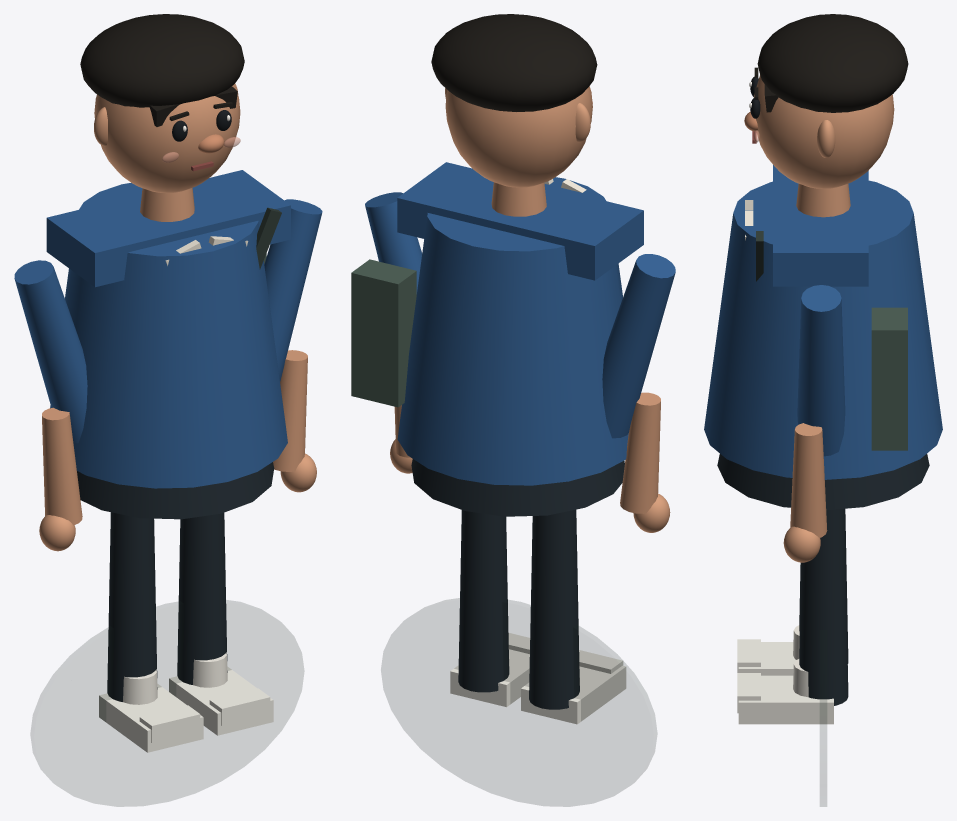
File: customer_02.glb
3 views of the same model, side by side, from view 1: azimuth 30°, elevation 25°; view 2: azimuth 150°, elevation 25°; view 3: azimuth 270°, elevation 25° (orthographic). The views are drawn at different scales.
Visible parts, largest first — view 1: torso, contact_shadow, hair_cap, shoulder_line, head, leg_-0.075, leg_0.075, upper_arm_-0.235, hip, upper_arm_0.235, forearm_-0.235, shoe_-0.075 (+10 smaller); view 2: torso, contact_shadow, hair_cap, shoulder_line, leg_-0.075, head, leg_0.075, shoulder_bag, upper_arm_-0.235, hip, forearm_-0.235, upper_arm_0.235 (+5 smaller); view 3: torso, hair_cap, head, shoulder_line, leg_0.075, upper_arm_0.235, shoulder_bag, hip, forearm_0.235, shoe_0.075, neck, shoe_-0.075 (+6 smaller).
Boxes of the visible parts, x1,y1,x2,y2 form: torso: (50,183,287,488); contact_shadow: (31,600,303,806); hair_cap: (80,14,244,107); shoulder_line: (46,170,290,287); head: (94,84,240,193); leg_-0.075: (107,512,157,701); leg_0.075: (177,513,227,684); upper_arm_-0.235: (14,260,87,443); hip: (77,462,274,519); upper_arm_0.235: (264,199,322,381); forearm_-0.235: (42,407,82,525); shoe_-0.075: (99,683,203,752); torso: (397,177,628,485); contact_shadow: (381,598,656,806); hair_cap: (431,14,597,111); shoulder_line: (397,162,643,280); leg_-0.075: (529,509,579,709); head: (445,86,592,187); leg_0.075: (458,510,509,692); shoulder_bag: (351,259,416,407); upper_arm_-0.235: (602,254,675,438); hip: (411,459,624,516); forearm_-0.235: (620,392,660,513); upper_arm_0.235: (365,192,422,293); torso: (704,180,942,479); hair_cap: (757,14,908,112); head: (753,75,894,188); shoulder_line: (773,165,868,286); leg_0.075: (799,508,848,705); upper_arm_0.235: (797,285,845,456); shoulder_bag: (871,307,907,450); hip: (717,454,929,510); forearm_0.235: (790,423,827,537); shoe_0.075: (738,675,833,724); neck: (796,184,850,217); shoe_-0.075: (738,642,796,675).
Bounding box in the file's own units: 0.662 × 1.61 × 0.459.
